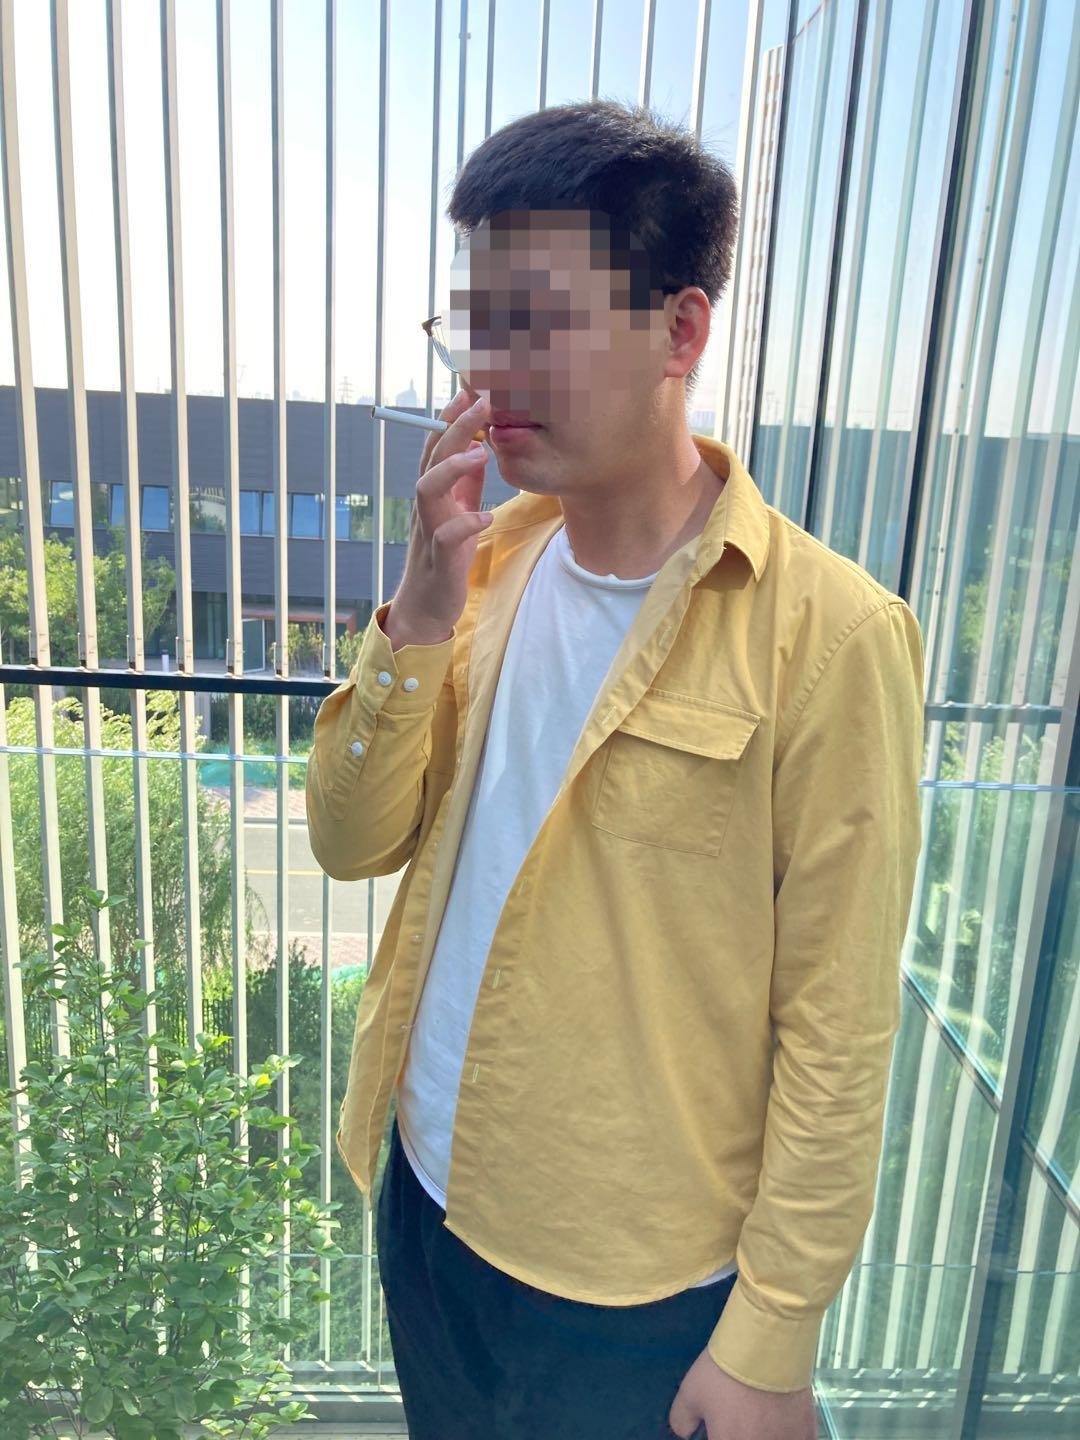smoke: (374, 401, 486, 449)
